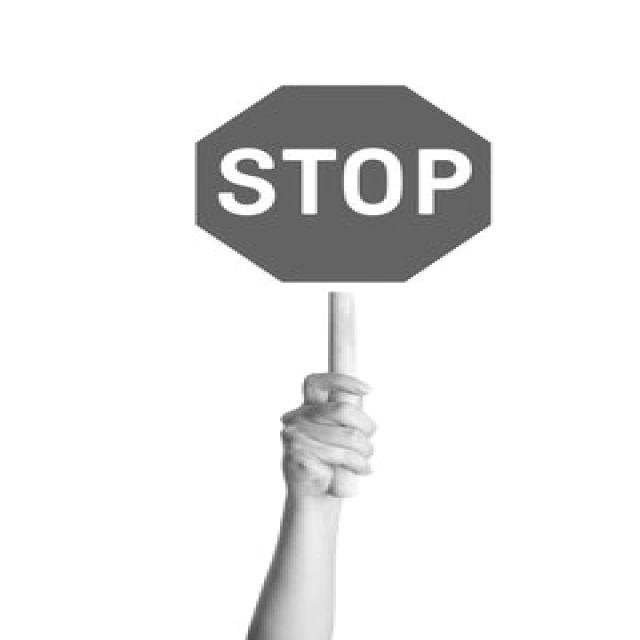stop: (185, 81, 497, 287)
